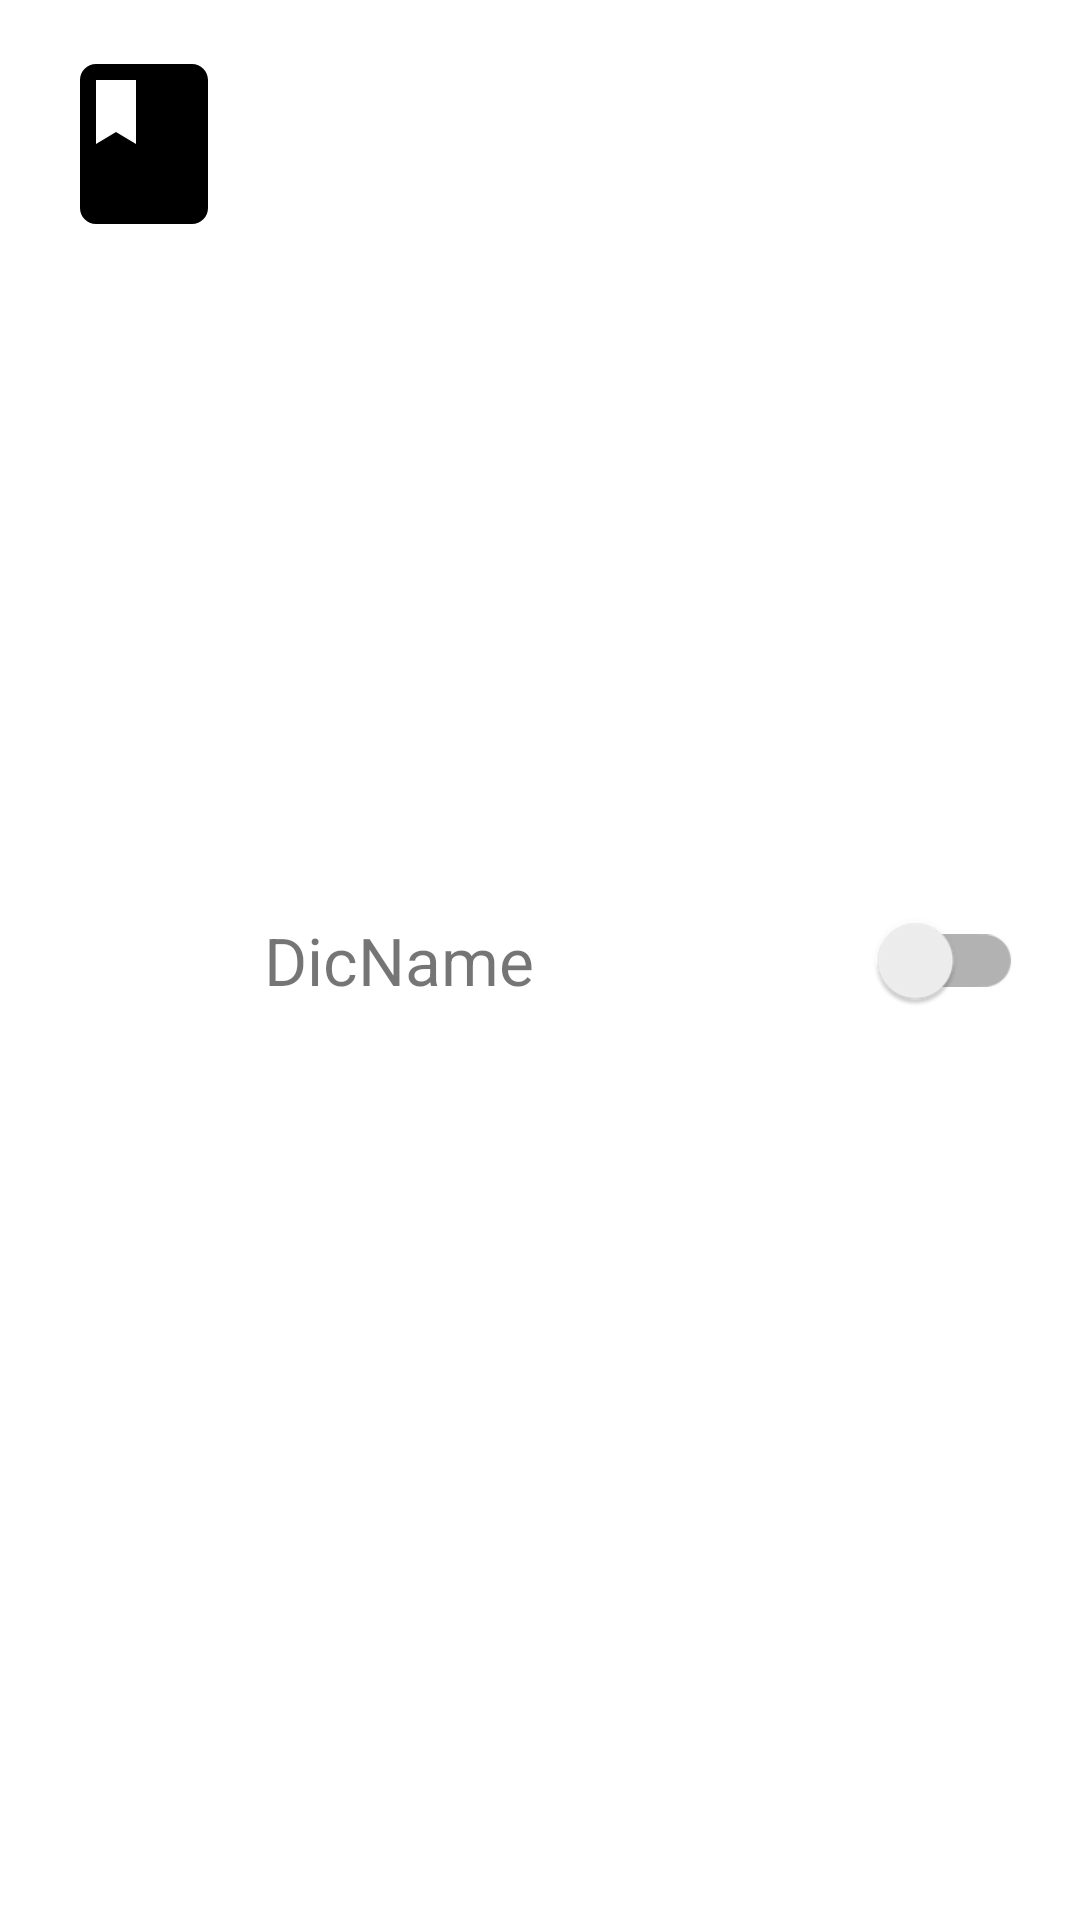

Where to tap for icons on this 1080px×1920px app screen, as [x,y]:
Dic Icon: [144,144]
